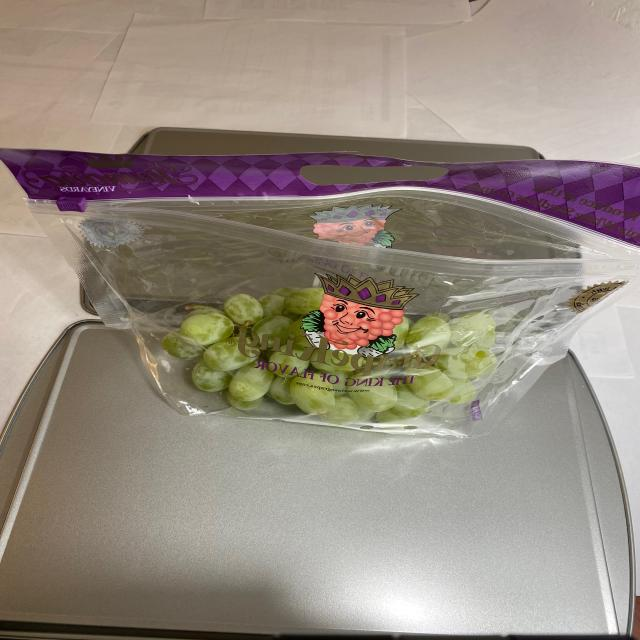grapes: (158, 290, 524, 422)
